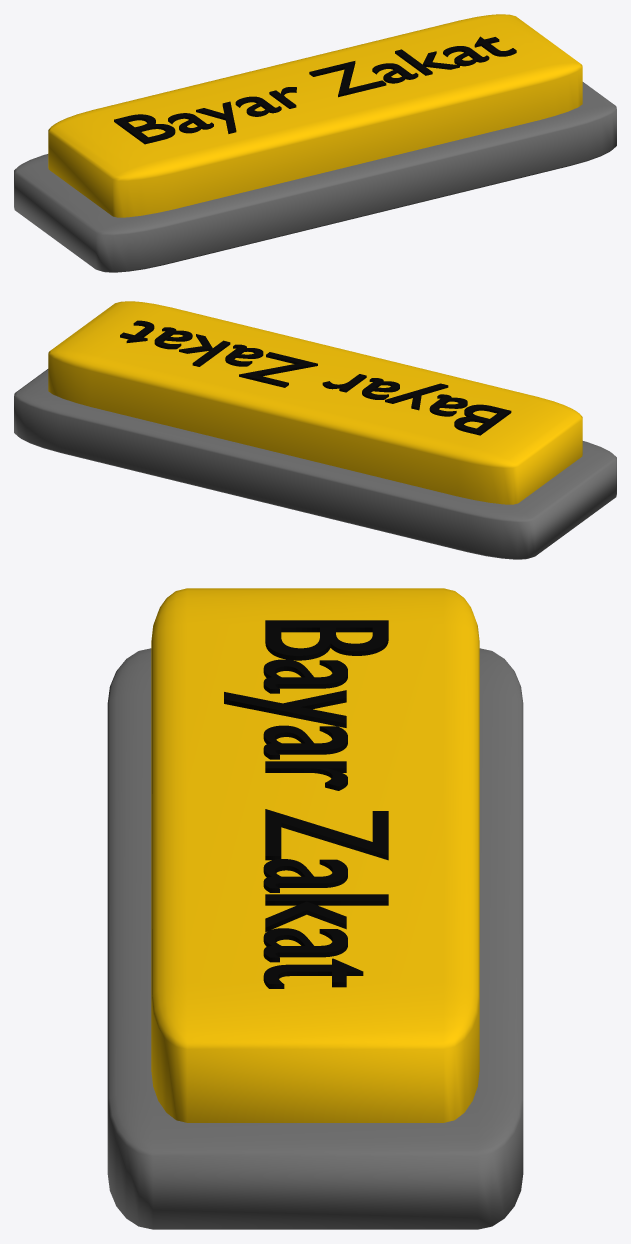
Rendered from button.fbx.
The picture shows the model from 3 angles, top to bottom: view 1: azimuth 30°, elevation 25°; view 2: azimuth 150°, elevation 25°; view 3: azimuth 270°, elevation 25°; orthographic projection. The views are drawn at different scales.
Parts seen in each view (by area): view 1: Cube.001, Cube, Text; view 2: Cube.001, Cube, Text; view 3: Cube.001, Cube, Text.
Boxes of the visible parts, x1=… form: Cube.001: x1=48, y1=14, x2=582, y2=217; Cube: x1=14, y1=82, x2=616, y2=272; Text: x1=114, y1=36, x2=516, y2=144; Cube.001: x1=48, y1=301, x2=582, y2=504; Cube: x1=14, y1=369, x2=616, y2=559; Text: x1=120, y1=320, x2=511, y2=435; Cube.001: x1=151, y1=588, x2=479, y2=1122; Cube: x1=107, y1=648, x2=523, y2=1229; Text: x1=224, y1=620, x2=388, y2=988.
Bounding box in the file's own units: 221 × 37.79 × 76.33.
